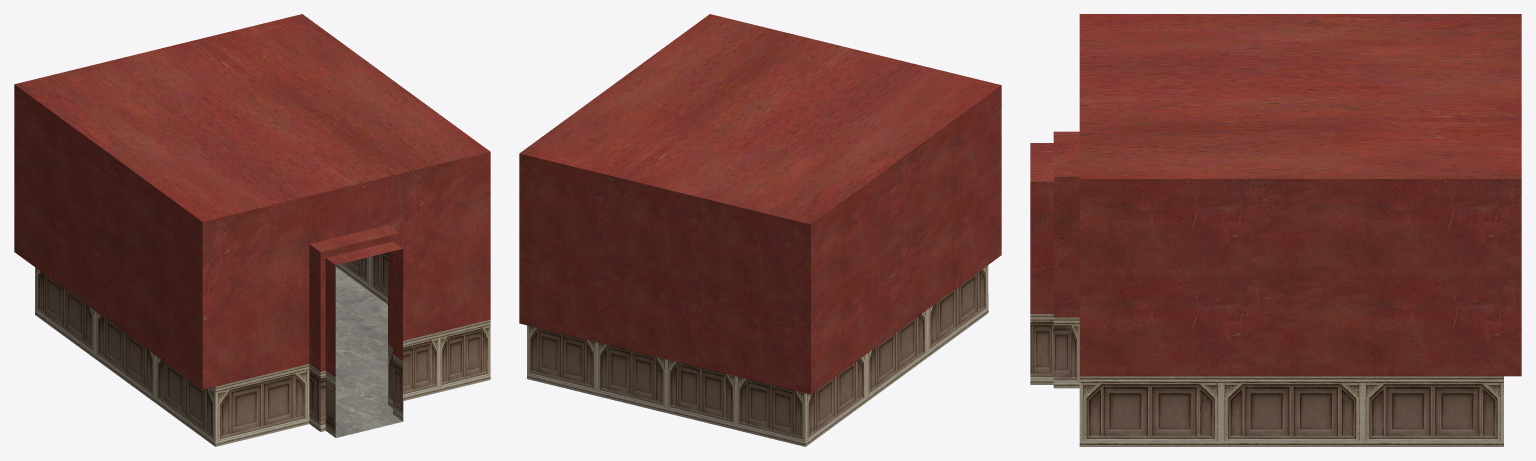
The model's file is thm_nboo_block_bldg_64x32_s02_r2_foyer2_mesh_r2.fbx.
3 views of the same model, side by side, from view 1: azimuth 30°, elevation 25°; view 2: azimuth 150°, elevation 25°; view 3: azimuth 270°, elevation 25° (orthographic). The views are drawn at different scales.
Parts seen in each view (by area): view 1: mesh_node; view 2: mesh_node; view 3: mesh_node.
Boxes of the visible parts, x1=… form: mesh_node: x1=14, y1=14, x2=490, y2=446; mesh_node: x1=519, y1=14, x2=1001, y2=446; mesh_node: x1=1030, y1=14, x2=1521, y2=446.
Bounding box in the file's own units: 5.5 × 4.16 × 6.92.
